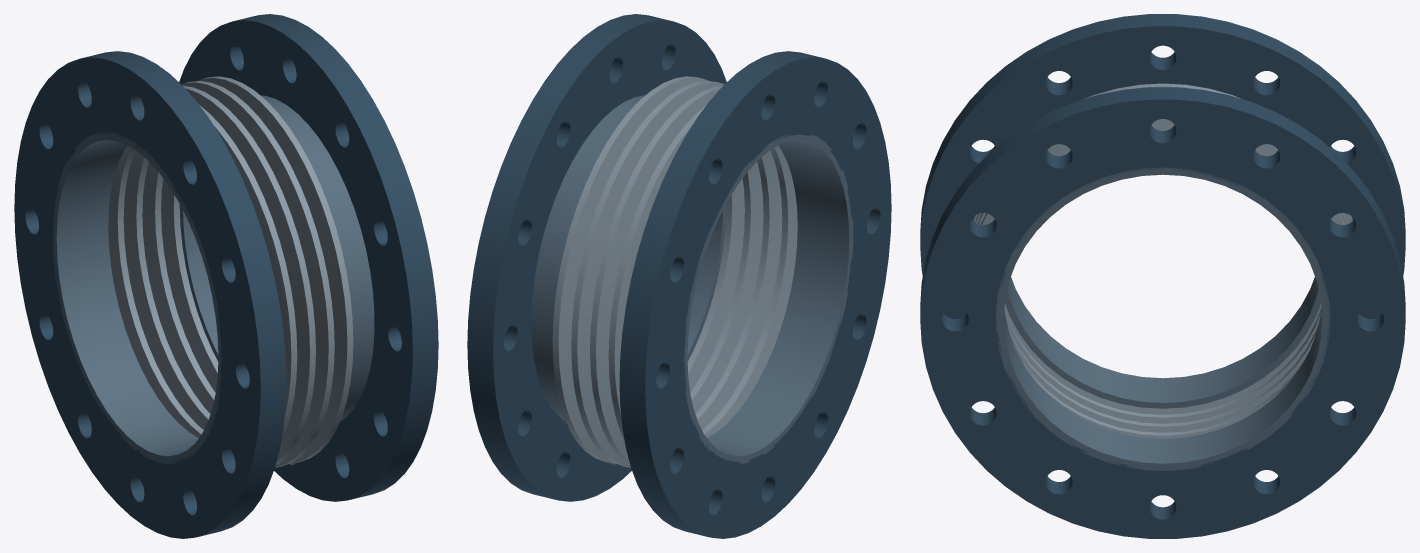
The model's file is flan-dn250-L165-D273-f.glb.
The picture shows the model from 3 angles, left to right: view 1: azimuth 30°, elevation 25°; view 2: azimuth 150°, elevation 25°; view 3: azimuth 270°, elevation 25°; orthographic projection.
Visible parts, largest first — view 1: homut_flanec_1, prokladka_silfon_1, homut_flanec_2, patrubok_1, patrubok_2; view 2: homut_flanec_1, prokladka_silfon_1, homut_flanec_2, patrubok_1, patrubok_2; view 3: homut_flanec_2, homut_flanec_1, patrubok_2, prokladka_silfon_1, patrubok_1.
Boxes of the visible parts, x1,y1,x2,y2 form: homut_flanec_1: (14,51,286,538); prokladka_silfon_1: (108,76,353,467); homut_flanec_2: (179,14,438,501); patrubok_1: (52,132,221,463); patrubok_2: (179,95,374,421); homut_flanec_1: (619,51,891,538); prokladka_silfon_1: (552,76,797,467); homut_flanec_2: (467,14,726,501); patrubok_1: (683,134,853,463); patrubok_2: (531,95,726,421); homut_flanec_2: (920,87,1405,538); homut_flanec_1: (920,14,1405,318); patrubok_2: (996,167,1330,470); prokladka_silfon_1: (973,83,1352,438); patrubok_1: (1004,277,1321,408).
Bounding box in the file's own units: 165 × 395 × 396.
